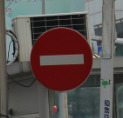no_entry: (30, 27, 93, 91)
